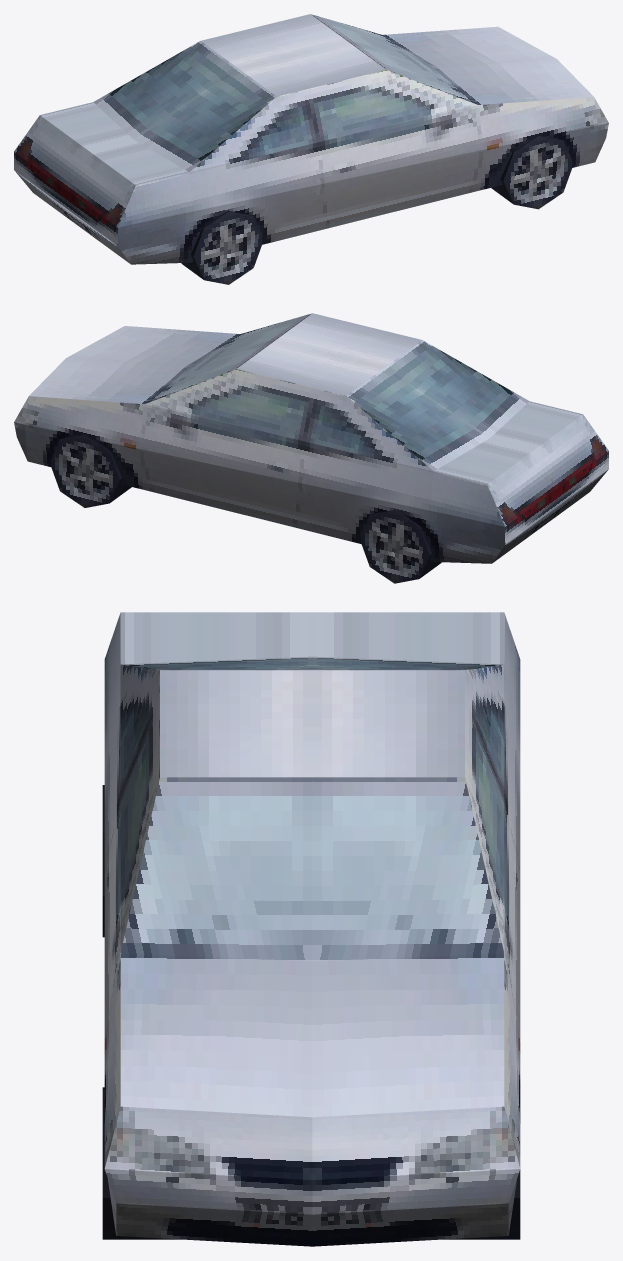
The model's file is honda-accord.glb.
3 renders of one model, top to bottom at view 1: azimuth 30°, elevation 25°; view 2: azimuth 150°, elevation 25°; view 3: azimuth 270°, elevation 25°, orthographic. The views are drawn at different scales.
Parts seen in each view (by area): view 1: Cube; view 2: Cube; view 3: Cube.
Boxes of the visible parts, left/top/right/bottom form: Cube: left=14, top=14, right=608, bottom=284; Cube: left=14, top=313, right=608, bottom=583; Cube: left=102, top=612, right=520, bottom=1246.
Bounding box in the file's own units: 7.92 × 2.45 × 2.85.
Materials: 1 (1 with a texture image).
